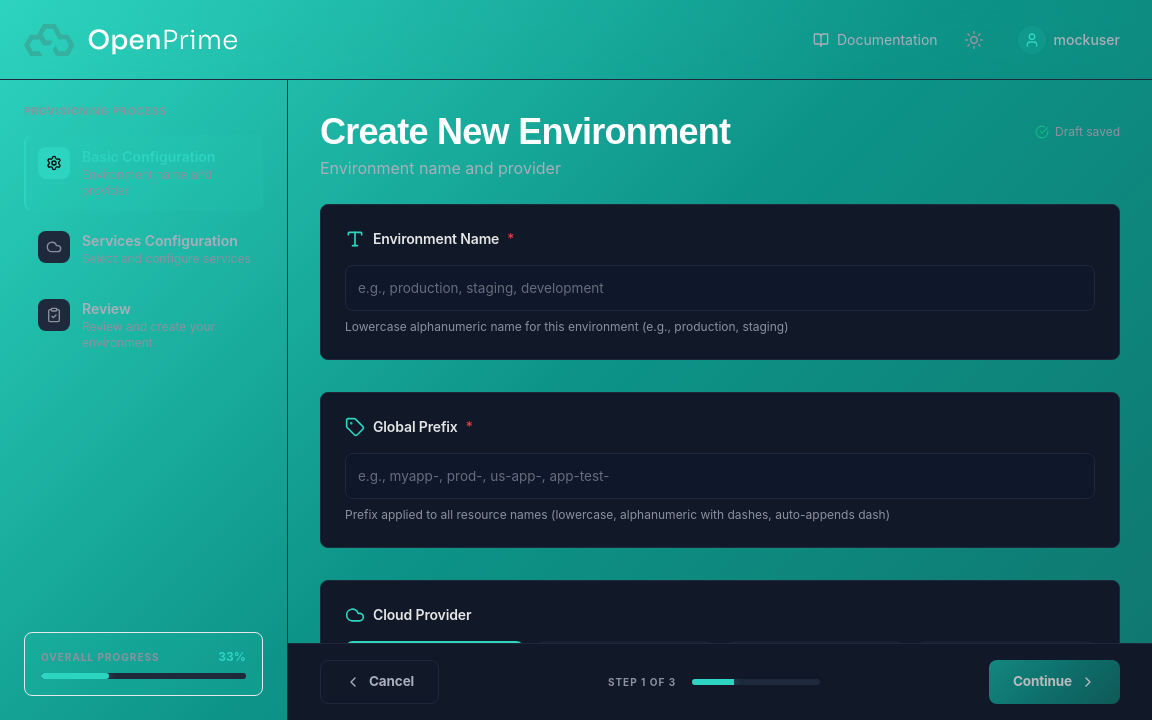
Test: WizardPage in the setup guide › without the guide, leaves the repository off and returns to the list
Expected: the text "Environment Name" is shown, [373,229,499,249]
Expected: the text "Overall Progress" is shown, [41,650,160,665]
In the field with placeholder "e.g., production, staging, development": (720, 288) [345,265,1095,311], type "guided"
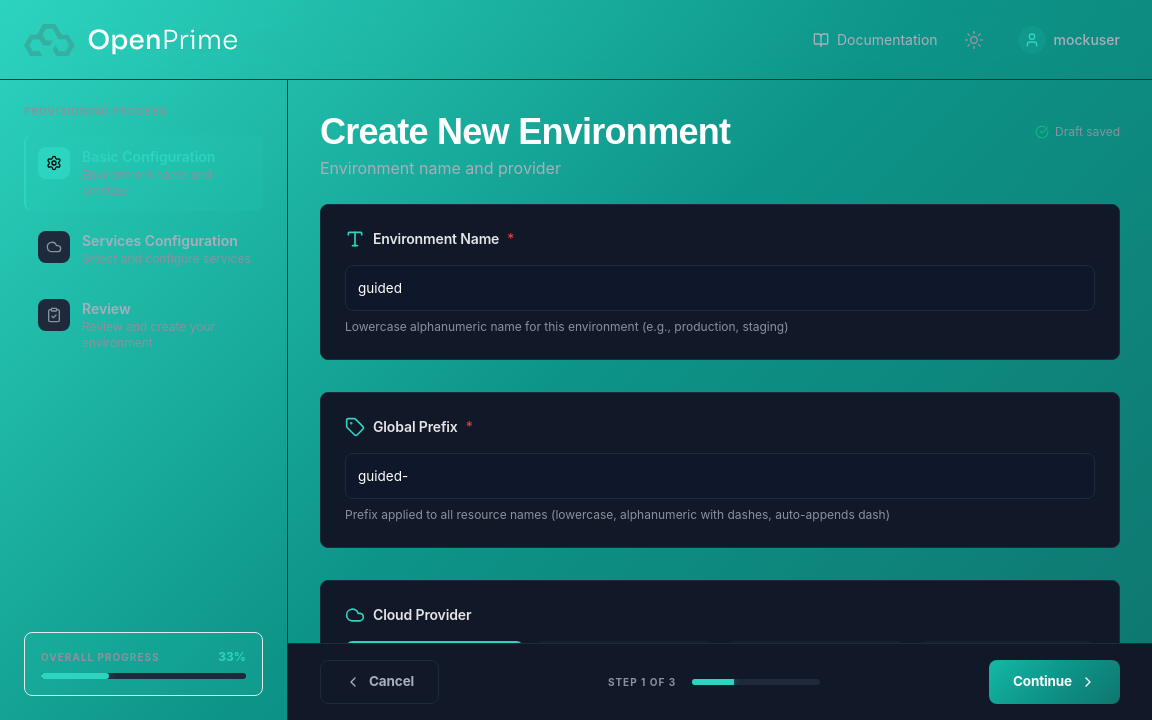
Click the button "Continue": (1054, 682) [989,660,1120,704]
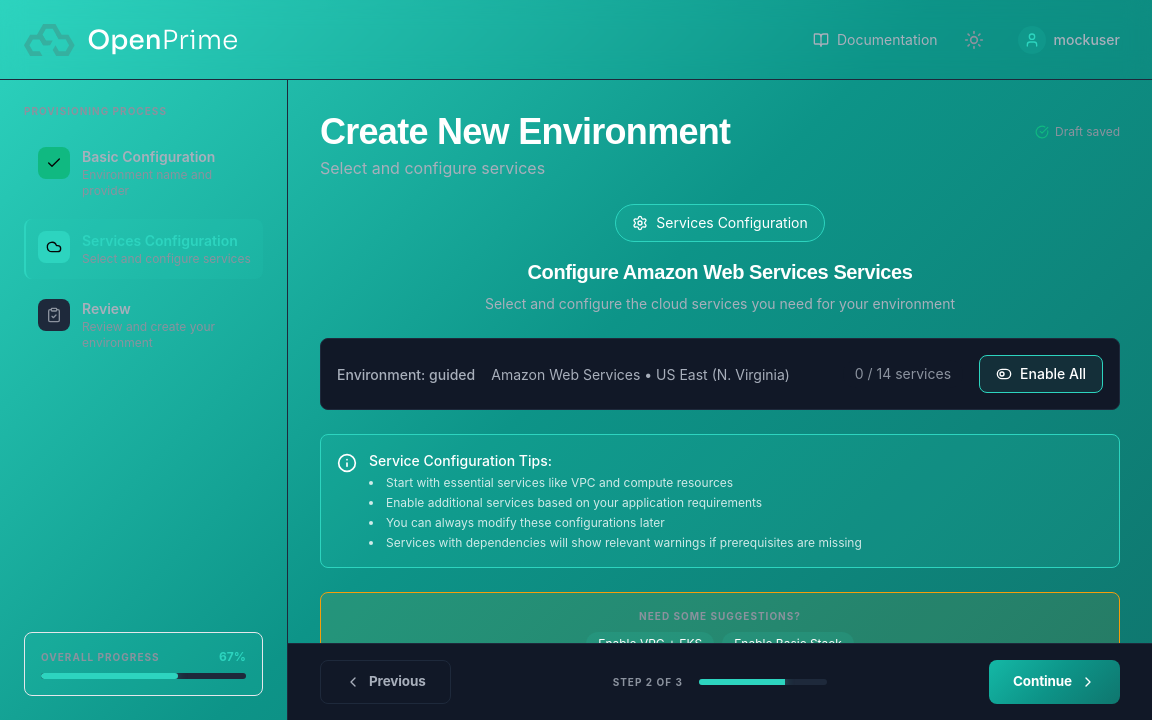
Click the button "Continue": (1054, 682) [989,660,1120,704]
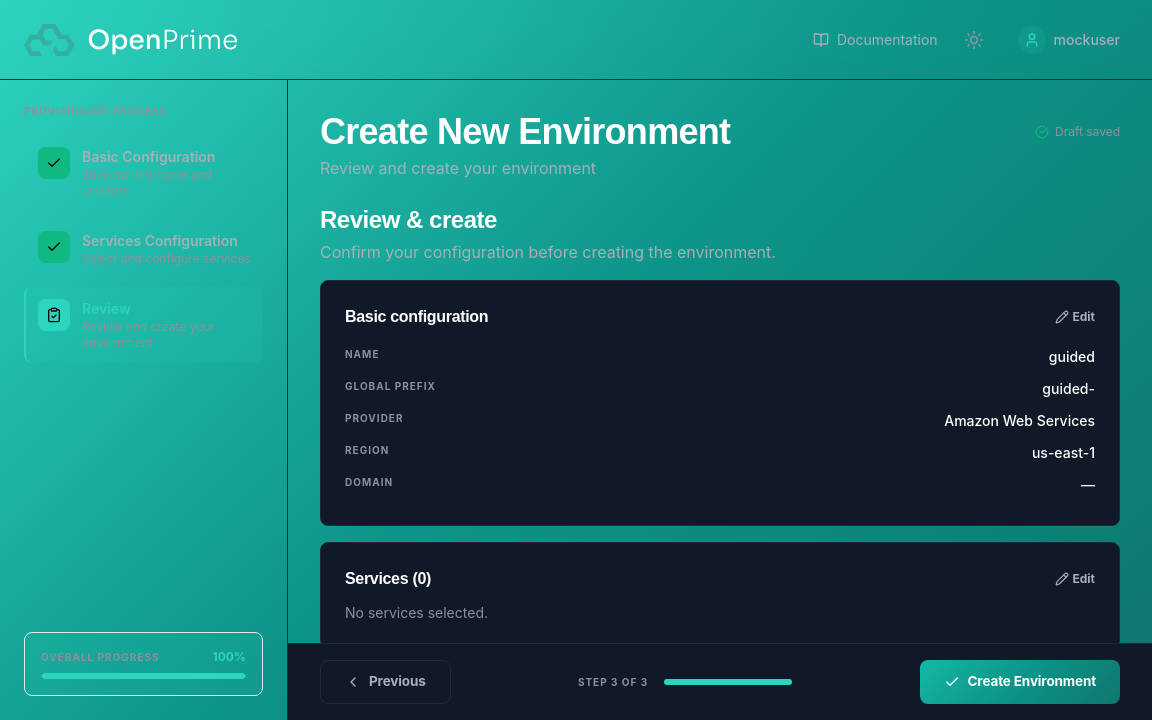
Click the button "Create Environment": (1020, 682) [920,660,1120,704]
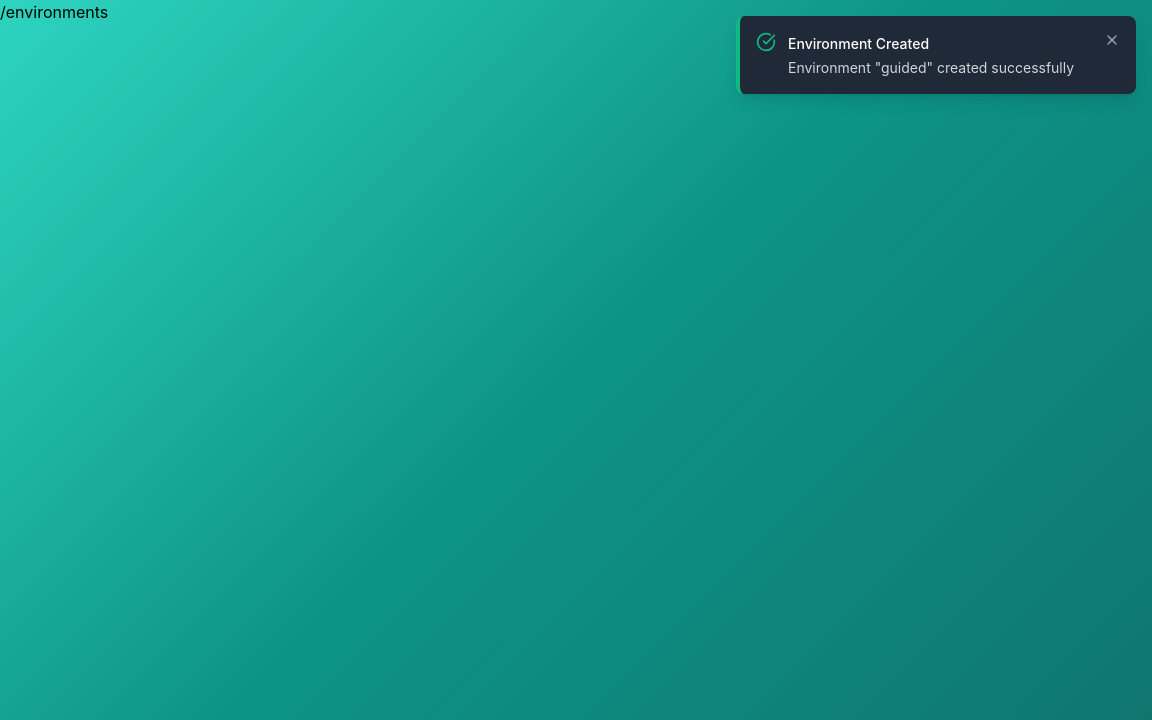
Expected: the text with test id "location" reads "/environments", [0,2,108,22]
